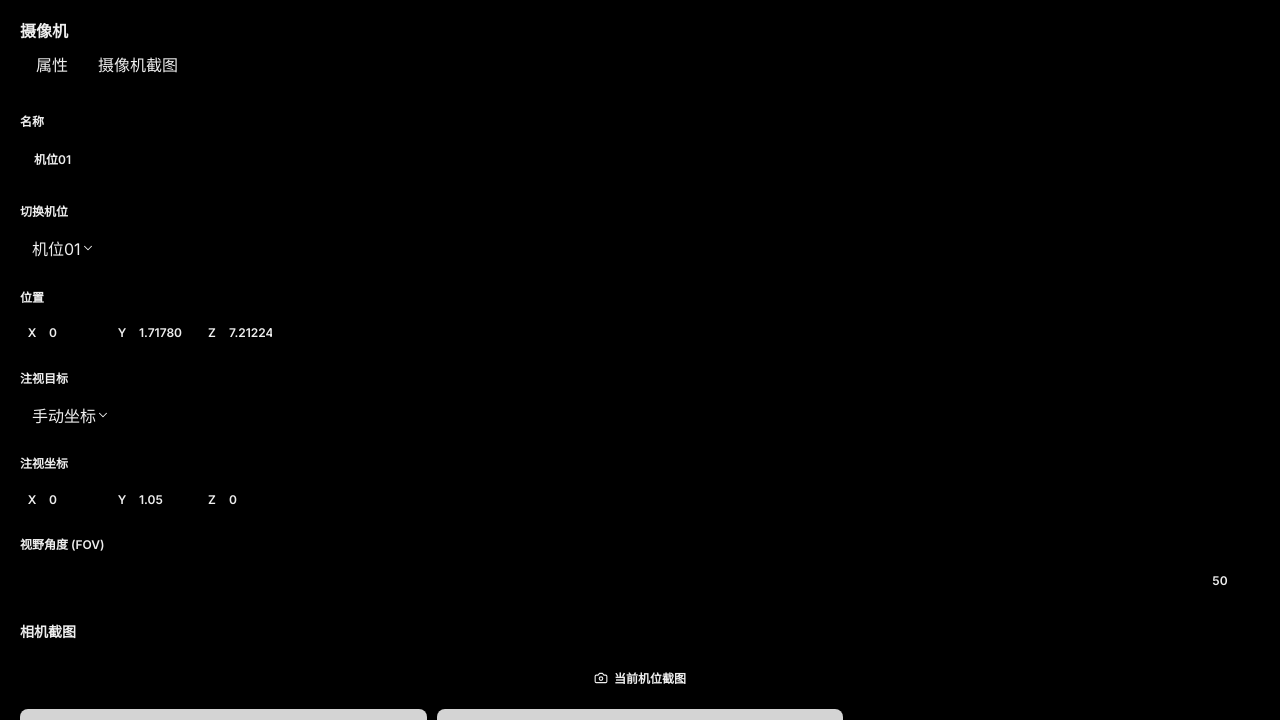
Scenario: shows all camera screenshots grouped by camera in the screenshots tab
Click the button "摄像机截图": (138, 65) [86, 46, 190, 84]
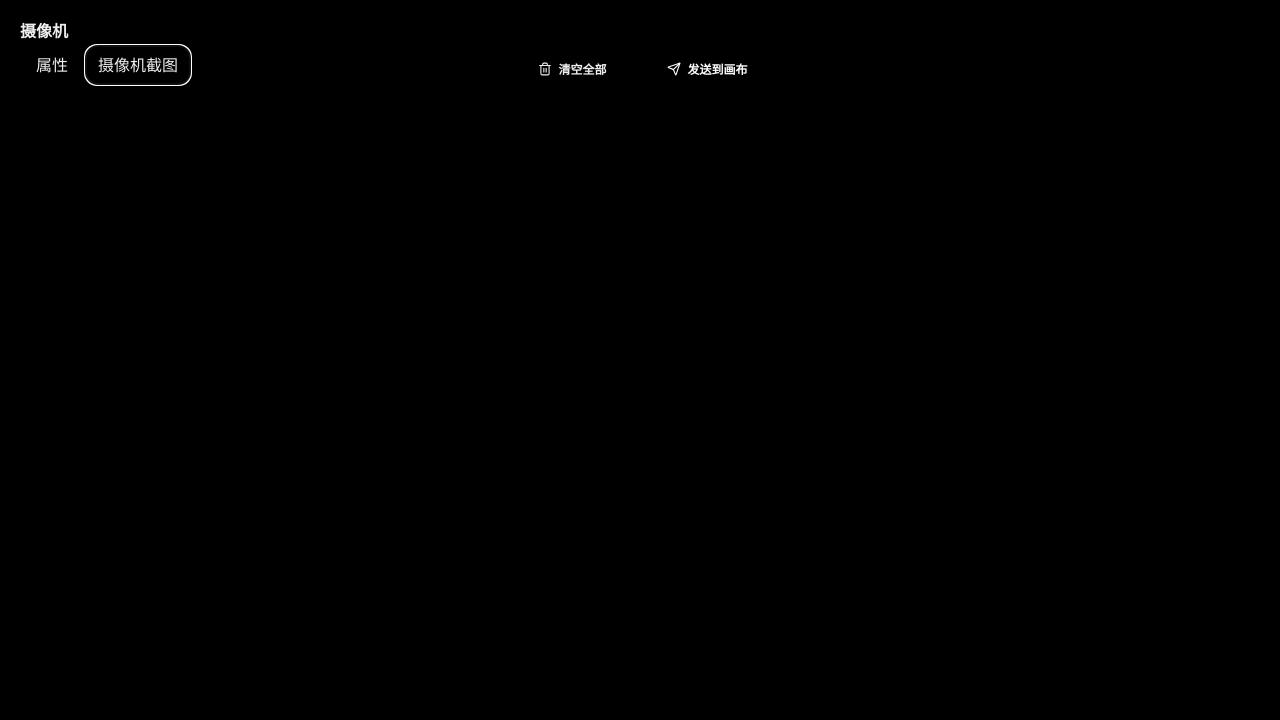
Expected: the heading "相机截图" is gone
Expected: the icon with test id "camera-capture-clear-icon" is shown, [538, 62, 552, 76]
Expected: the icon with test id "camera-capture-send-icon" is shown, [668, 62, 682, 76]
